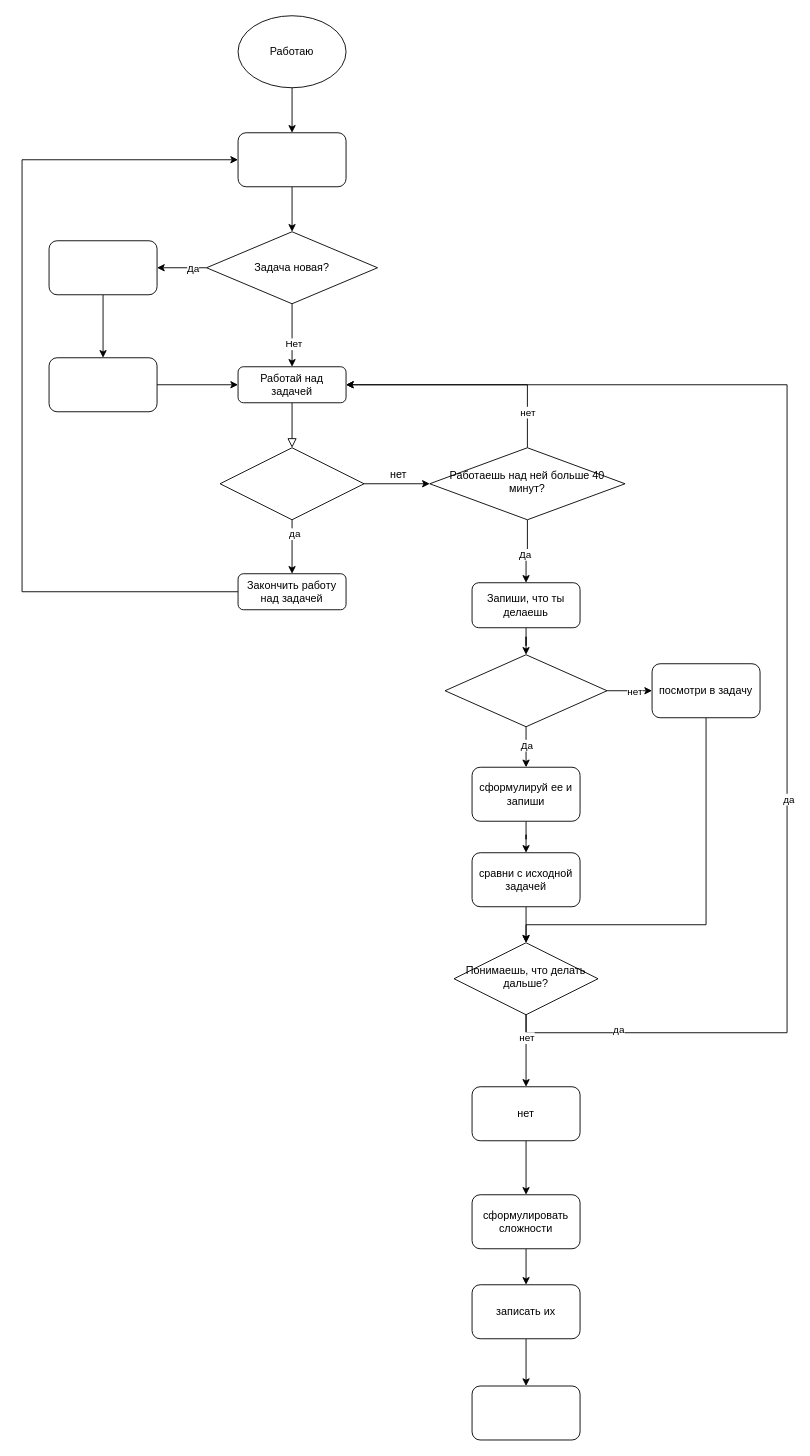
This 810x1456 diagram has some shape labels left out. Here are the shapes that lost their labels. From the top down, the centre of each, then its label:
At point (291, 159): "Выбрать задачу".
At point (102, 267): "Сформулировать задачу".
At point (102, 384): "Записать формулировку буквами".
At point (291, 483): "Есть результат?".
At point (525, 690): "помнишь, какая задача?".
At point (525, 1412): "попросить со стороны оценить проблему".
